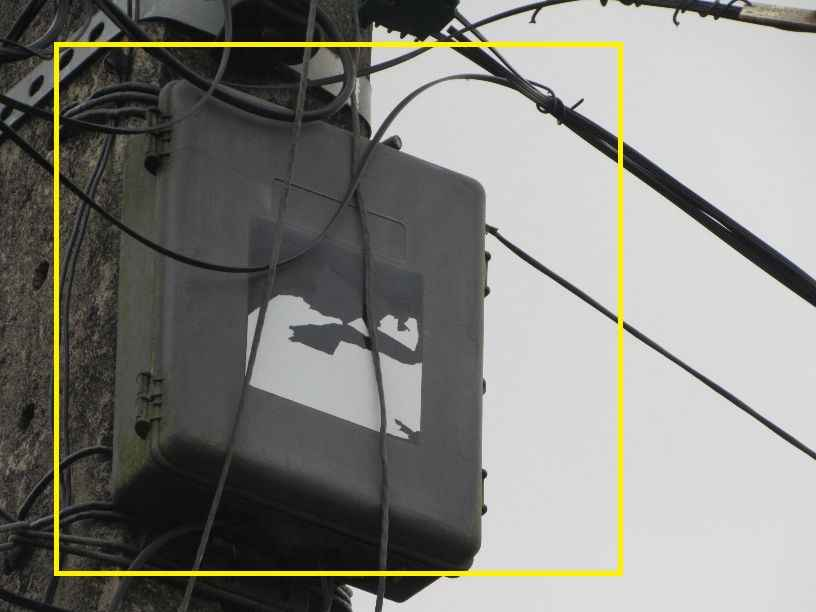caixa_derivacao: (113, 69, 490, 570)
fibra_optica: (694, 1, 813, 35)
